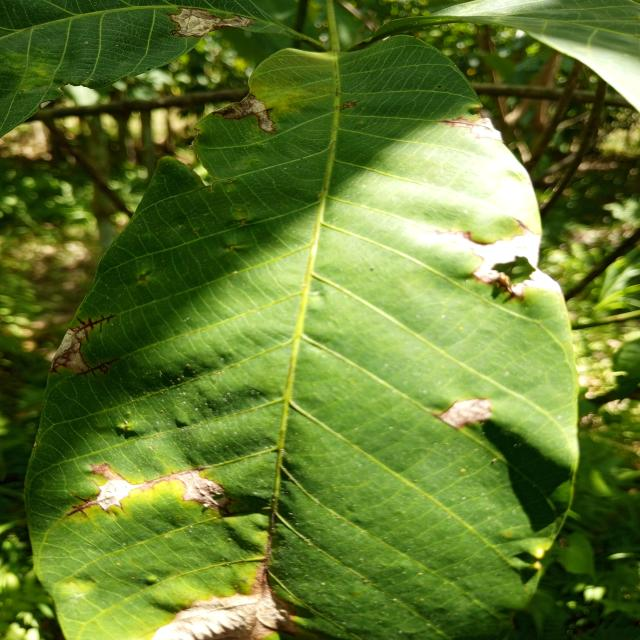Corynespora: (62, 468, 199, 518), (68, 312, 117, 342), (74, 356, 121, 378), (337, 99, 362, 111)
Leaf-Blight: (152, 566, 294, 640), (438, 230, 561, 294), (170, 7, 252, 38), (214, 94, 274, 134), (93, 464, 141, 511), (181, 472, 231, 514), (438, 398, 491, 427), (443, 117, 503, 142), (52, 329, 86, 373)
